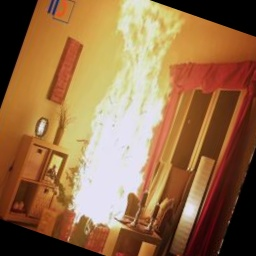fire: (38, 0, 209, 241)
